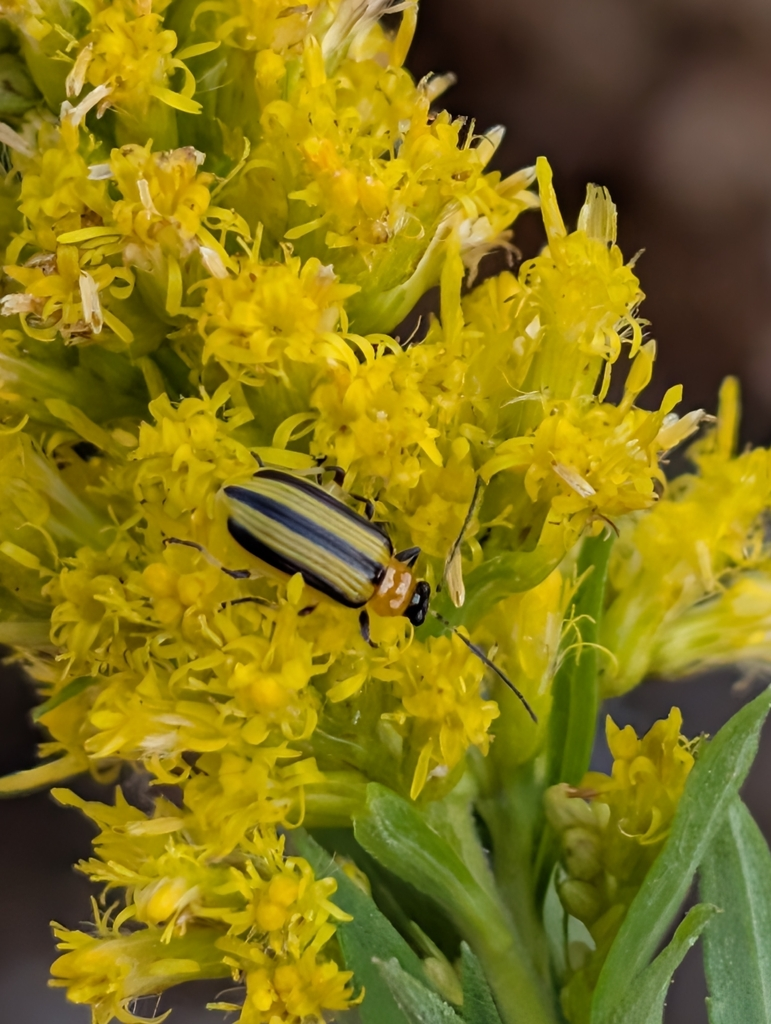potato_beetle: (82, 347, 626, 801)
